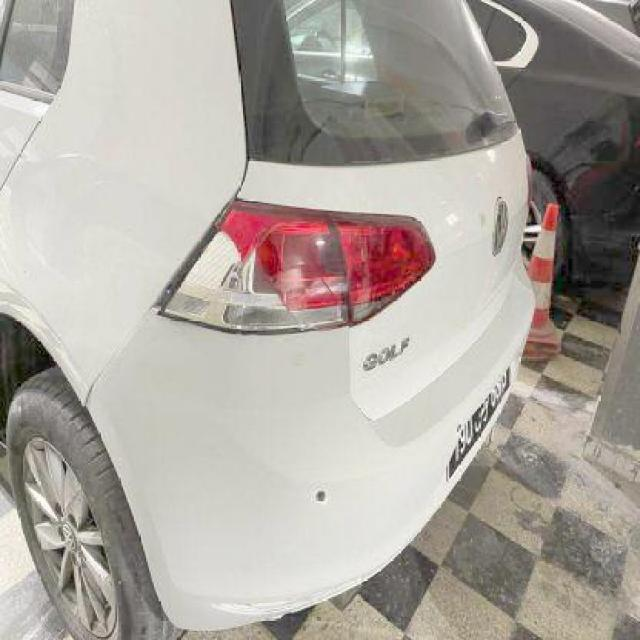car damage: (19, 146, 175, 294)
